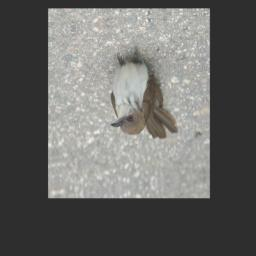Cuckoo: (105, 39, 178, 148)
